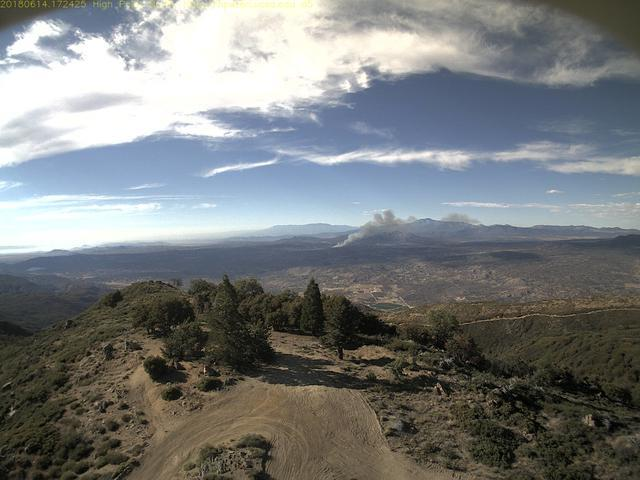smoke: (328, 206, 483, 251)
